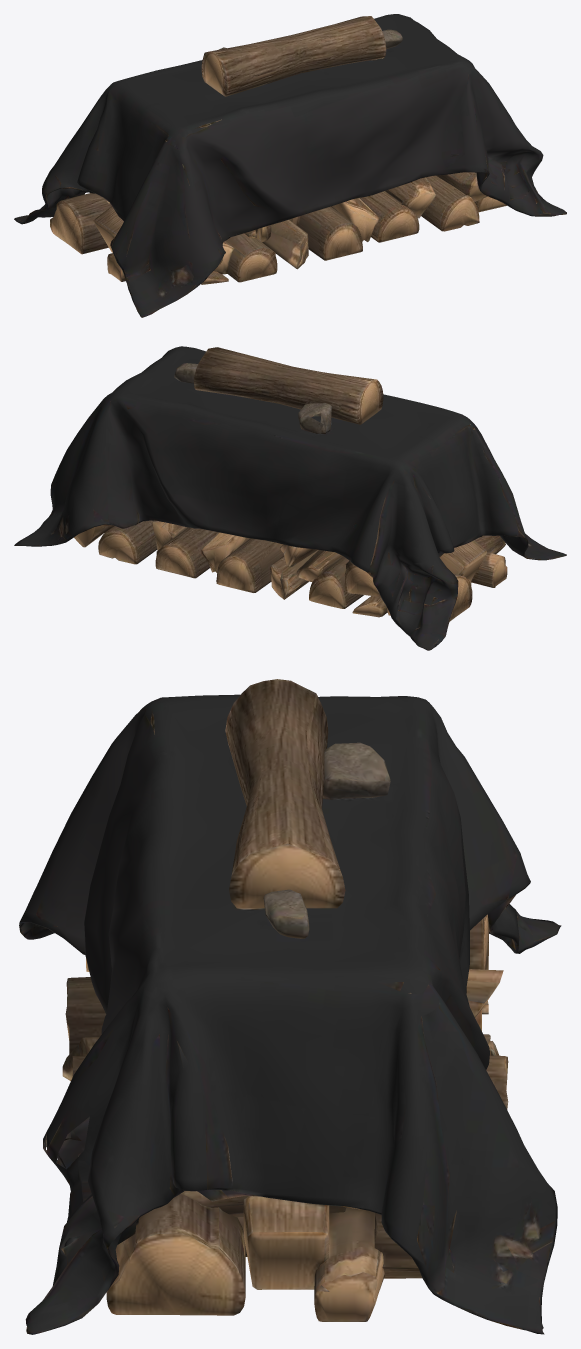
Rendered from tarp_woodpile.glb.
The picture shows the model from 3 angles, top to bottom: view 1: azimuth 30°, elevation 25°; view 2: azimuth 150°, elevation 25°; view 3: azimuth 270°, elevation 25°; orthographic projection. The views are drawn at different scales.
Size of the model in its own units: 0.9497 by 0.3975 by 0.5244.
Materials: 1 (1 with a texture image).
